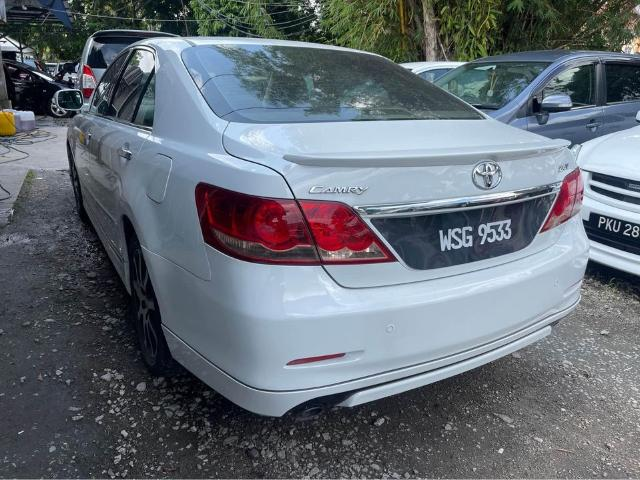License_Plate: (409, 214, 541, 260), (587, 211, 640, 252)
car: (50, 37, 597, 434)
